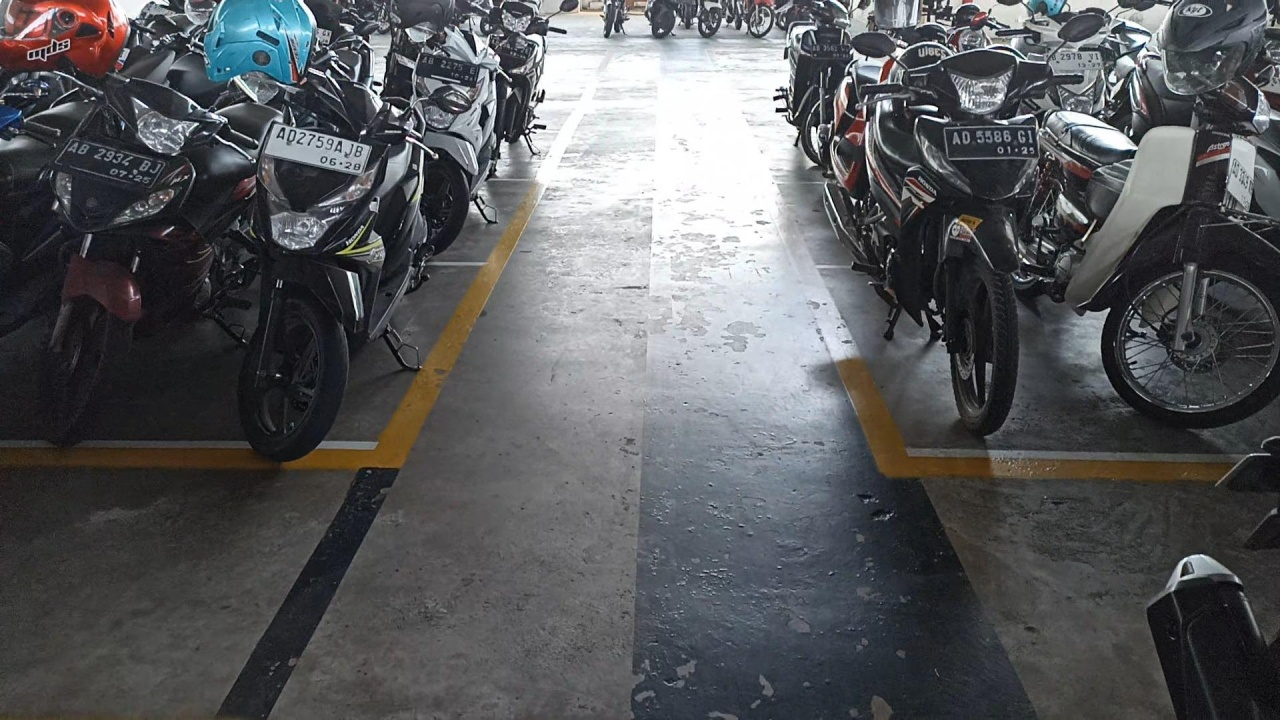plate: (53, 137, 168, 190), (263, 122, 372, 175), (945, 127, 1040, 160), (416, 53, 479, 86)
